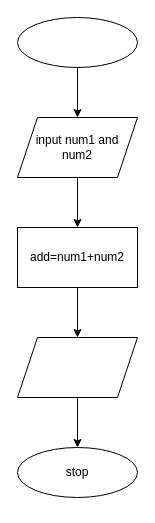
This 155x523 diagram has some shape labels left out. The centre of each missing label's shape, as x and y in pixels:
"print add" belongs at pixel 77 367.
"Start" belongs at pixel 77 42.
